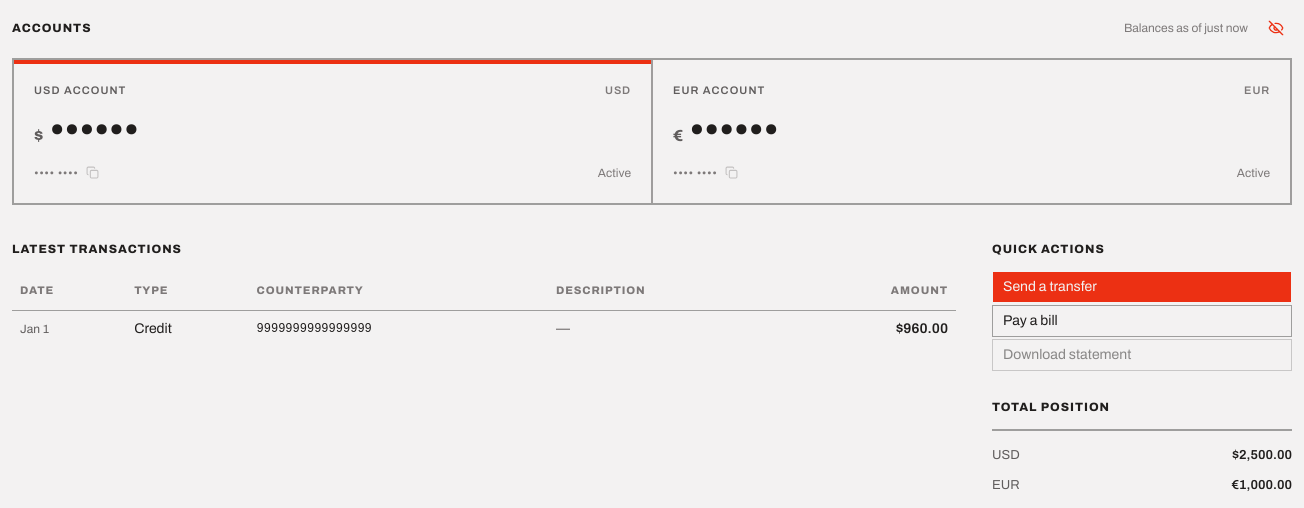
Test case: HomeDashboard › shows the second account's own transactions after selecting it, not the first's
The width and height of the screenshot is (1304, 508).
Check: the text "9999999999999999" is shown, box 249,311 -> 548,347
Click the button "EUR account". click: (719, 90)
box: 653,60 -> 1292,203
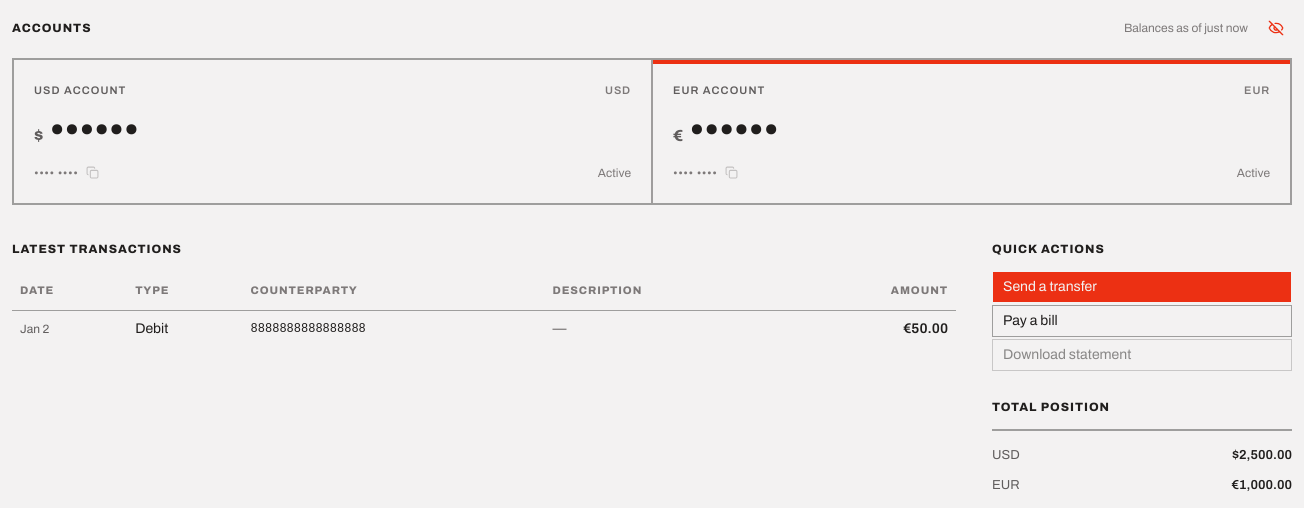
Check: the text "8888888888888888" is shown, box 243,311 -> 545,347
Check: the text "9999999999999999" is gone
